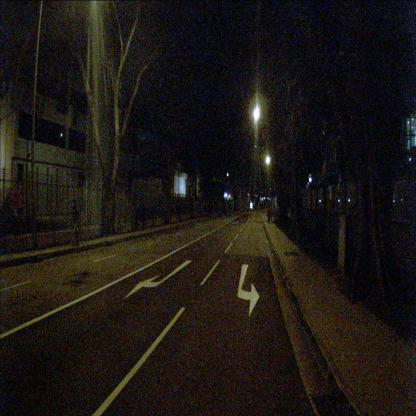human-pedestrian-adult: (70, 199, 80, 248)
